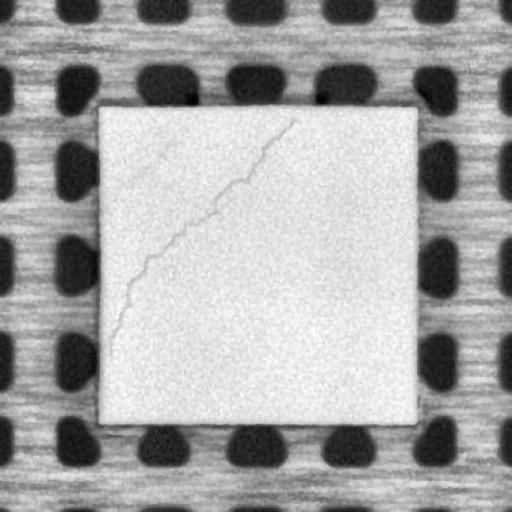DIE_CRACK: (107, 118, 291, 336)
